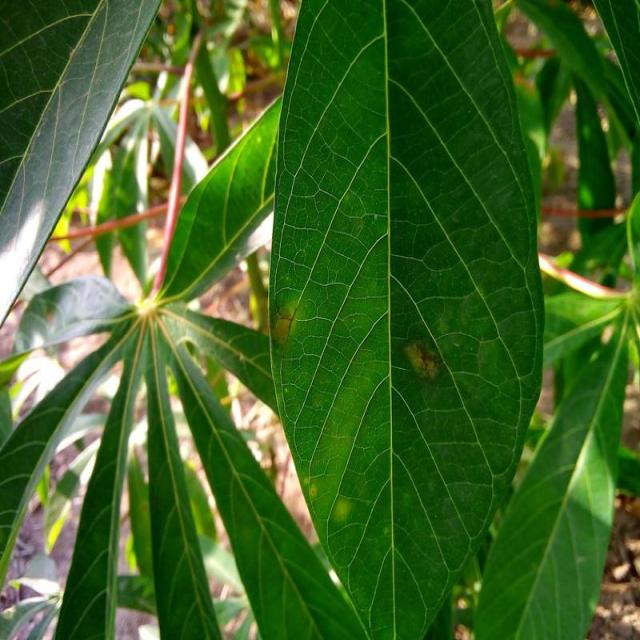cassava leaf: (267, 0, 547, 638), (1, 0, 163, 330)
